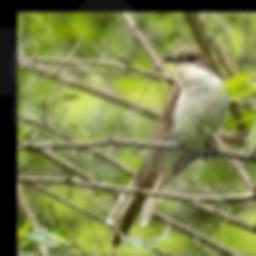Cuckoo: (106, 46, 227, 246)
